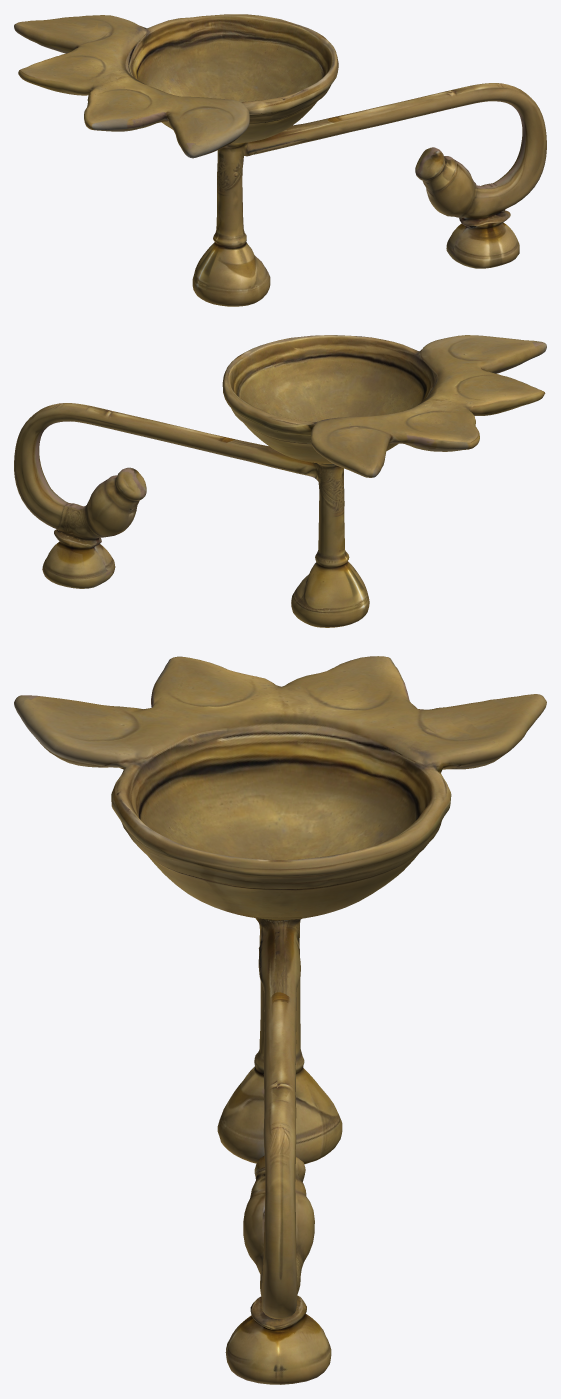
Rendered from golden.glb.
3 views of the same model, one above another, from view 1: azimuth 30°, elevation 25°; view 2: azimuth 150°, elevation 25°; view 3: azimuth 270°, elevation 25° (orthographic). The views are drawn at different scales.
Parts seen in each view (by area): view 1: Object_4; view 2: Object_4; view 3: Object_4.
Part boxes in pixels (bbox=[...]): Object_4: bbox=[14, 14, 546, 306]; Object_4: bbox=[14, 335, 546, 627]; Object_4: bbox=[14, 656, 546, 1384].
Size of the model in its own units: 1.99 by 1.03 by 1.24.
Materials: 1 (1 with a texture image).
